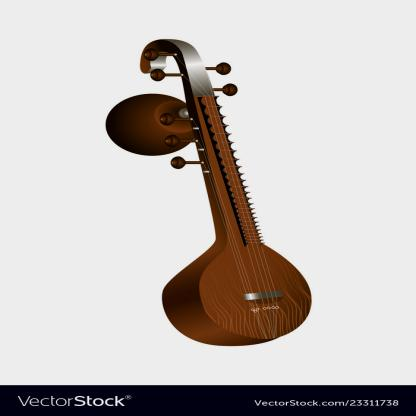Veena: (160, 63, 316, 344)
